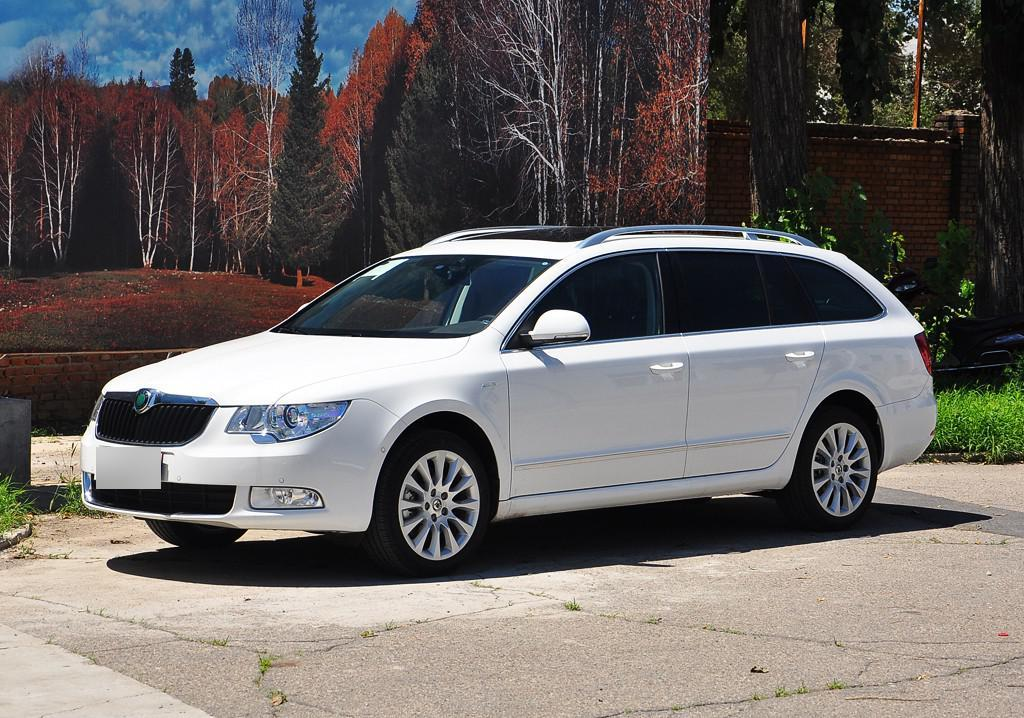Wagon: (78, 224, 938, 576)
